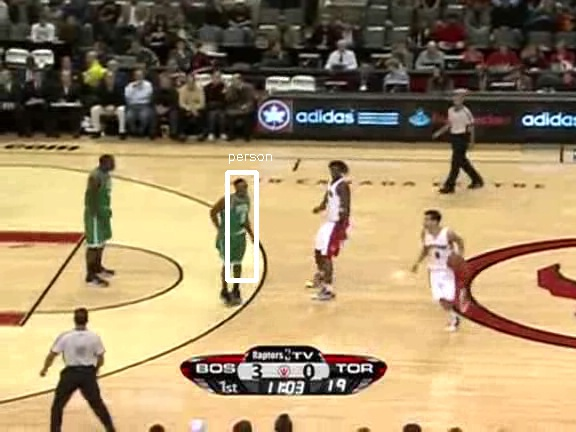person: (221, 189, 255, 270), (220, 189, 254, 270), (222, 189, 256, 270), (221, 188, 255, 269), (221, 190, 255, 271)
target_negative: (333, 231, 547, 391), (243, 157, 430, 281), (392, 155, 460, 355), (481, 211, 573, 269), (520, 103, 574, 182), (372, 402, 395, 415)
